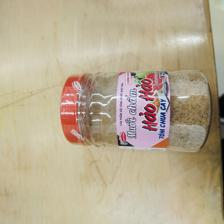Hao_hao: (60, 70, 212, 155)
